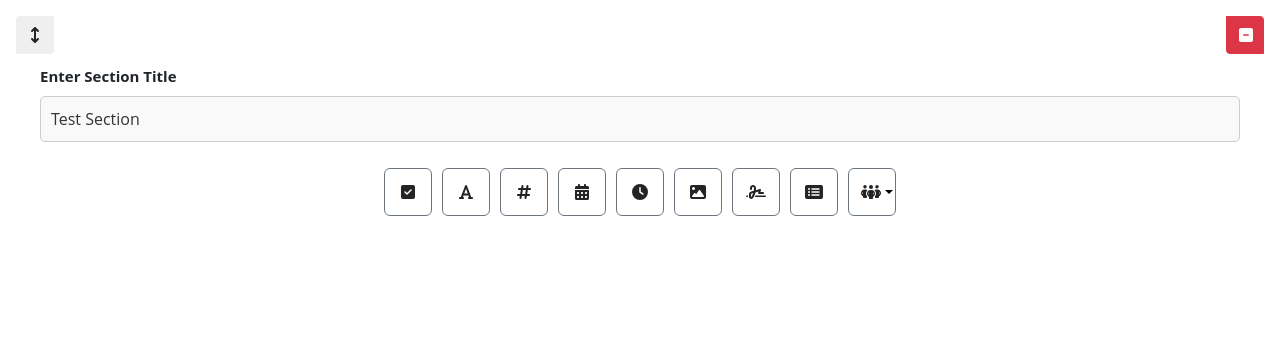
Test case: SectionElement Component › renders crew list dropdown with correct items
Click the button with test id "add-crew-list" at (872, 192), box [848,168,896,216]
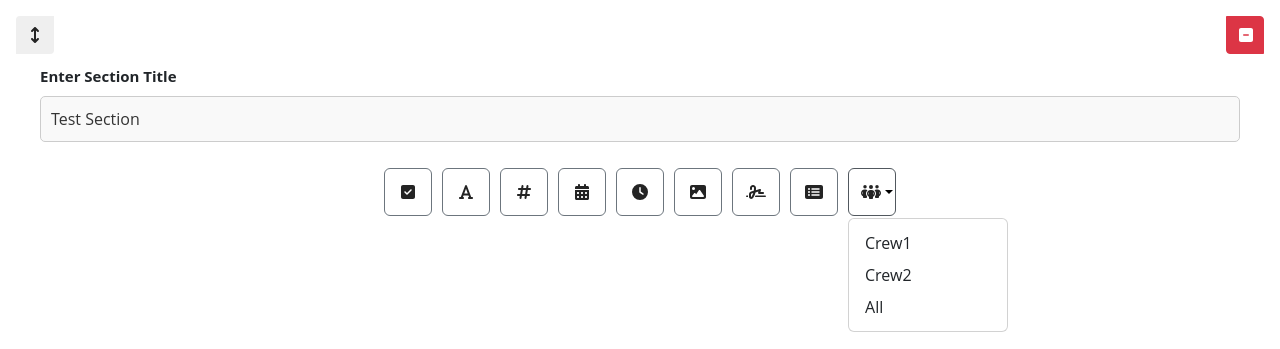
Expected: the button "Crew1" is shown, [865,232,912,254]
Expected: the button "Crew2" is shown, [865,264,912,286]
Expected: the button "All" is shown, [865,296,883,318]
